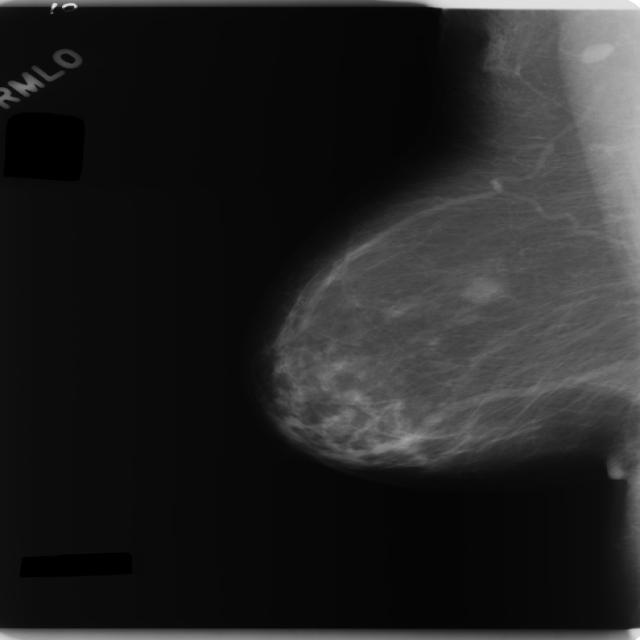tumour: (455, 275, 503, 305)
